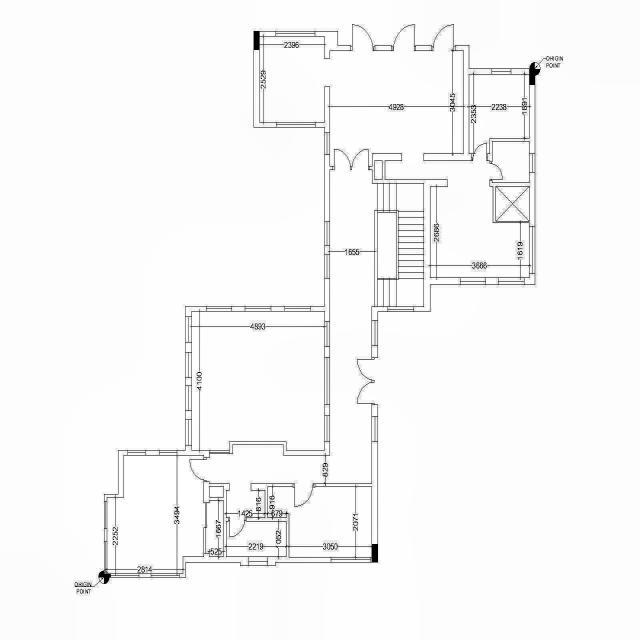Column: (253, 31, 260, 50), (372, 544, 378, 562), (529, 68, 535, 86), (104, 574, 111, 578)
Door: (350, 23, 376, 51), (391, 24, 416, 52), (431, 24, 456, 52), (292, 483, 316, 508), (190, 457, 207, 482), (228, 518, 246, 538), (471, 142, 488, 161), (490, 161, 503, 181)
Double-Door: (356, 358, 374, 406), (332, 148, 370, 170)
Sliding Door: (204, 502, 206, 554)
Staircase: (371, 184, 424, 306)
Window: (324, 357, 330, 405), (529, 226, 535, 274), (276, 122, 316, 128), (331, 557, 371, 563), (460, 278, 486, 286), (498, 277, 524, 285), (276, 31, 316, 36), (248, 556, 268, 566), (185, 316, 192, 342), (185, 352, 192, 378), (185, 420, 192, 446), (244, 306, 272, 312), (185, 386, 192, 410), (284, 306, 311, 312), (324, 321, 330, 347), (324, 416, 330, 442), (206, 306, 232, 312), (372, 416, 378, 442), (372, 320, 378, 346), (388, 306, 414, 312), (324, 132, 330, 156), (324, 222, 330, 246), (324, 254, 330, 278), (110, 574, 140, 578), (150, 574, 180, 578), (492, 68, 512, 74), (104, 501, 108, 529), (128, 450, 146, 456), (159, 450, 177, 456), (529, 154, 535, 172), (104, 542, 107, 574), (210, 450, 230, 454)
